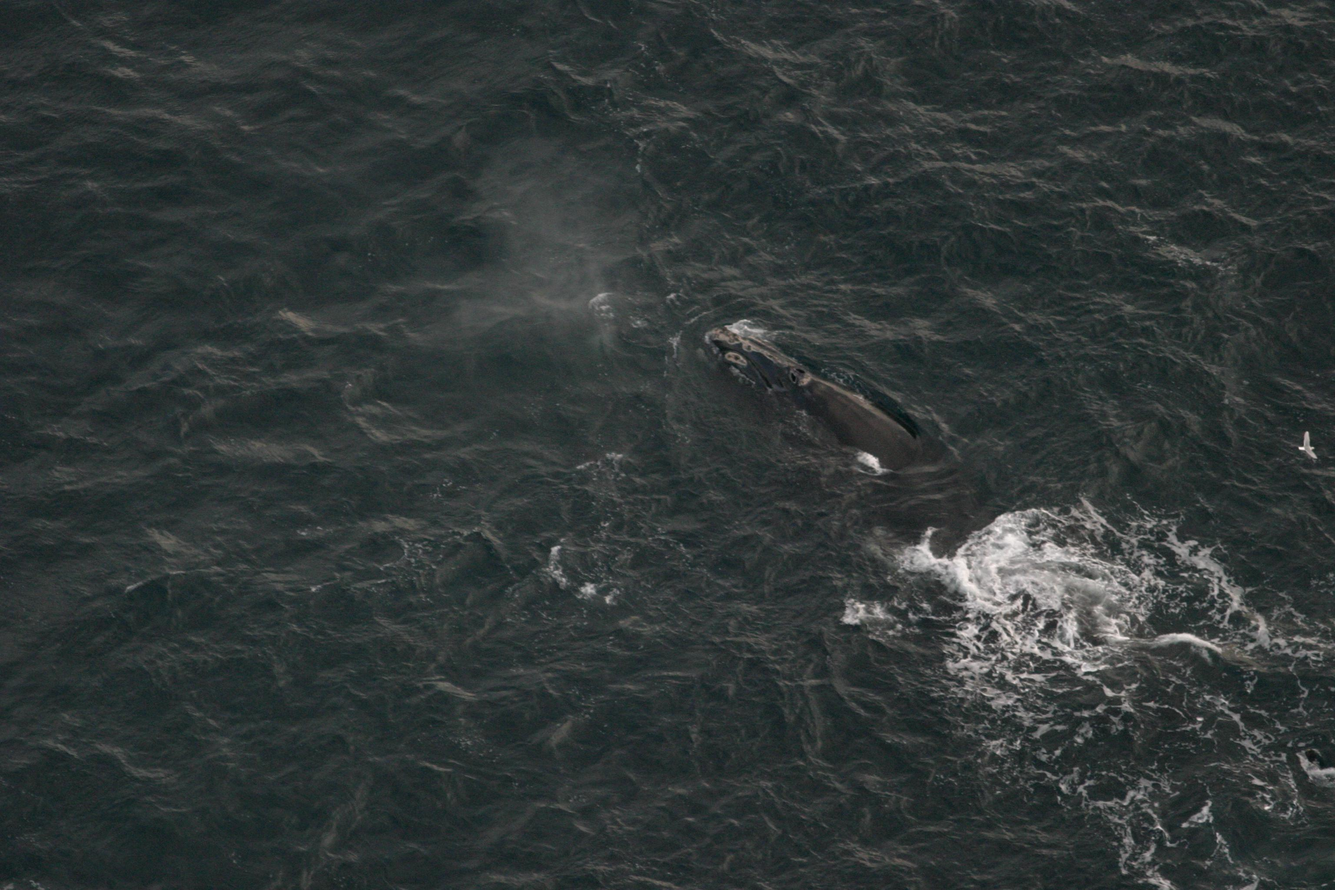whale: (692, 309, 1227, 697)
